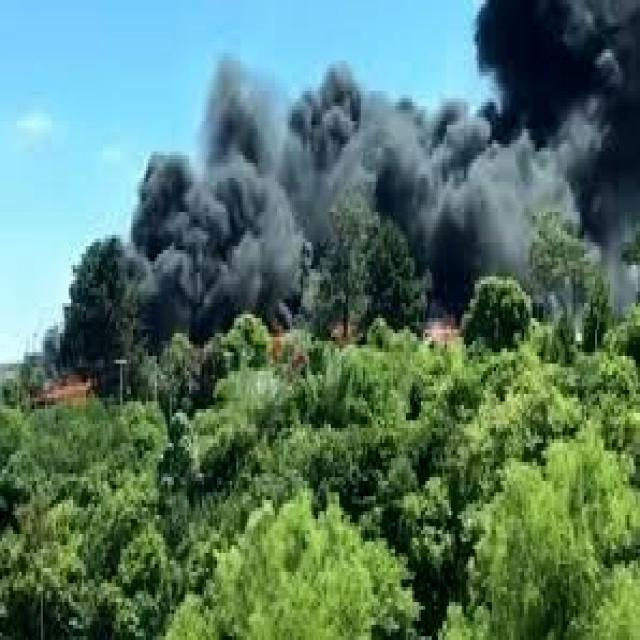Smoke: (130, 0, 639, 325)
